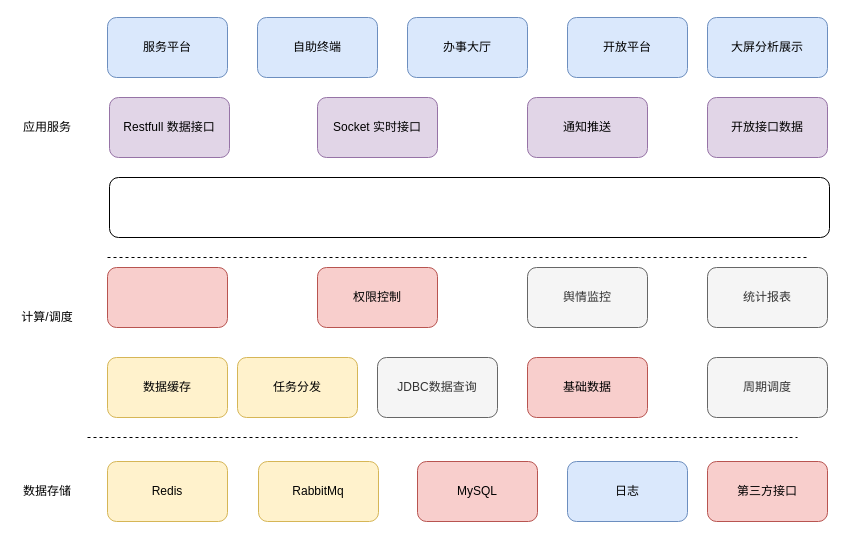
Some shapes in this 847 by 539 pixel diagram are drawn without their labels. The centre of each missing label's shape, as x and y in pixels:
"SpringCloud" goes at pixel 469 207.
"访问安全" goes at pixel 167 297.
